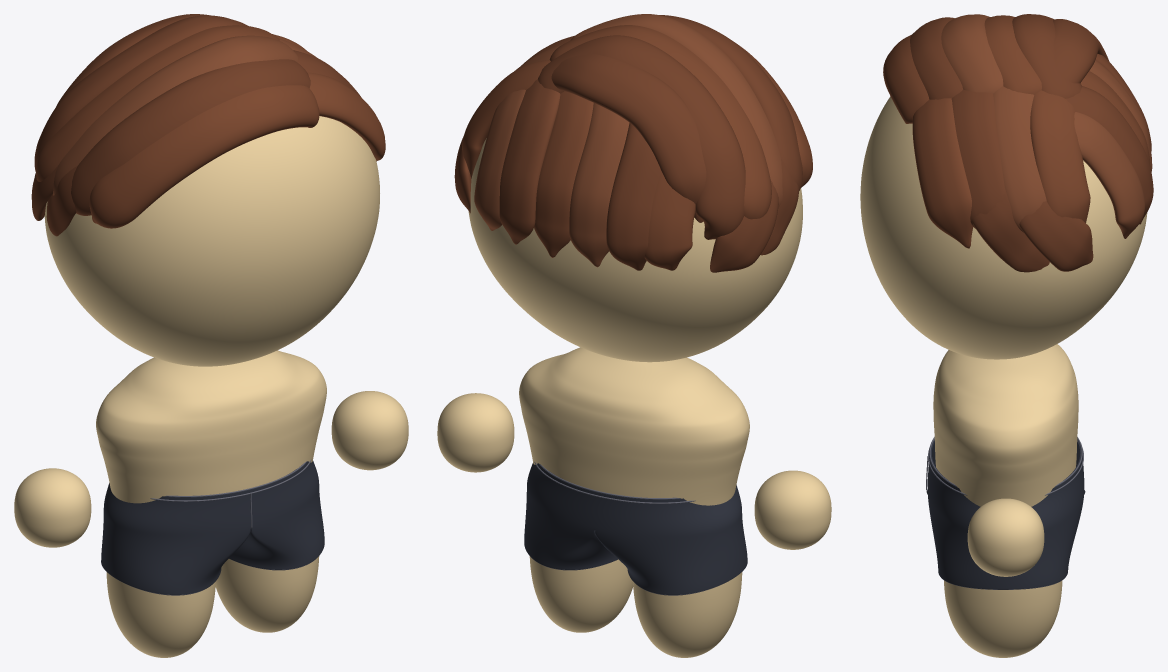
Rendered from Masculine-base.glb.
3 renders of one model, left to right at view 1: azimuth 30°, elevation 25°; view 2: azimuth 150°, elevation 25°; view 3: azimuth 270°, elevation 25°, orthographic.
Visible parts, largest first — view 1: Skin / soft oval head, Skin / rounded torso, Clothing / fixed shorts, Hair / Side part main 0, Hair / Side part main 1, Hair / Side part main 2, Skin / leg blob -1, Skin / leg blob 1, Skin / orb hand -1, Skin / orb hand 1, Hair / Side part main 3, Hair / Side part main 4 (+5 smaller); view 2: Skin / rounded torso, Skin / soft oval head, Clothing / fixed shorts, Hair / Side part crown, Hair / Side part main 4, Skin / leg blob -1, Hair / Side part nape 2, Hair / Side part nape 4, Hair / Side part main 3, Hair / Side part nape 3, Skin / leg blob 1, Hair / Side part nape 1 (+11 smaller); view 3: Skin / soft oval head, Skin / rounded torso, Clothing / fixed shorts, Skin / leg blob 1, Hair / Side part short 0, Hair / Side part short 3, Skin / orb hand 1, Hair / Side part short 1, Hair / Side part short 2, Hair / Side part nape 5, Hair / Side part main 2, Hair / Side part low 1 1 (+10 smaller).
Boxes of the visible parts, x1,y1,x2,y2 form: Skin / soft oval head: [44, 116, 379, 366]; Skin / rounded torso: [96, 350, 326, 503]; Clothing / fixed shorts: [101, 461, 324, 594]; Hair / Side part main 0: [89, 85, 319, 228]; Hair / Side part main 1: [71, 59, 310, 215]; Hair / Side part main 2: [53, 35, 298, 195]; Skin / leg blob -1: [106, 572, 215, 657]; Skin / leg blob 1: [215, 556, 319, 632]; Skin / orb hand -1: [14, 468, 91, 547]; Skin / orb hand 1: [331, 391, 408, 470]; Hair / Side part main 3: [35, 25, 279, 181]; Hair / Side part main 4: [34, 15, 247, 170]; Skin / rounded torso: [519, 347, 749, 505]; Skin / soft oval head: [468, 138, 802, 362]; Clothing / fixed shorts: [524, 463, 747, 594]; Hair / Side part crown: [551, 54, 706, 222]; Hair / Side part main 4: [538, 35, 745, 239]; Skin / leg blob -1: [633, 572, 742, 657]; Hair / Side part nape 2: [569, 103, 629, 267]; Hair / Side part nape 4: [499, 79, 560, 244]; Hair / Side part main 3: [549, 25, 771, 219]; Hair / Side part nape 3: [534, 91, 593, 257]; Skin / leg blob 1: [529, 556, 633, 632]; Hair / Side part nape 1: [606, 123, 661, 270]; Skin / soft oval head: [860, 96, 1147, 359]; Skin / rounded torso: [933, 344, 1078, 506]; Clothing / fixed shorts: [926, 439, 1085, 589]; Skin / leg blob 1: [944, 580, 1062, 657]; Hair / Side part short 0: [912, 98, 973, 248]; Hair / Side part short 3: [1030, 90, 1090, 222]; Skin / orb hand 1: [967, 498, 1044, 576]; Hair / Side part short 1: [951, 89, 1004, 228]; Hair / Side part short 2: [993, 86, 1046, 232]; Hair / Side part nape 5: [1074, 112, 1144, 238]; Hair / Side part main 2: [941, 14, 1003, 93]; Hair / Side part low 1 1: [1019, 201, 1093, 271].
Bounding box in the file's own units: 1.23 × 1.87 × 0.8255.
